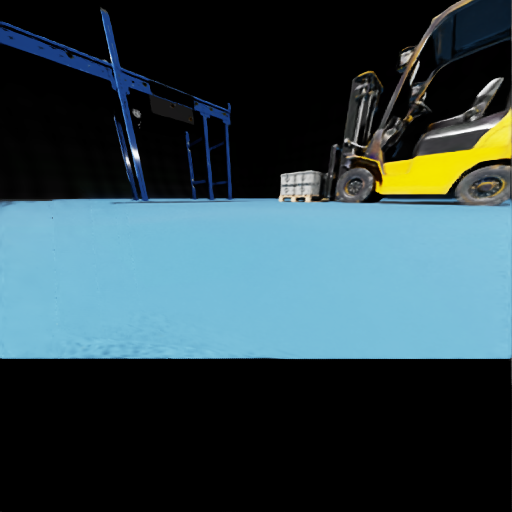transportation_area: (294, 183, 324, 194), (112, 73, 113, 75), (132, 81, 133, 82), (101, 70, 102, 71), (61, 55, 62, 56), (10, 37, 11, 38)
